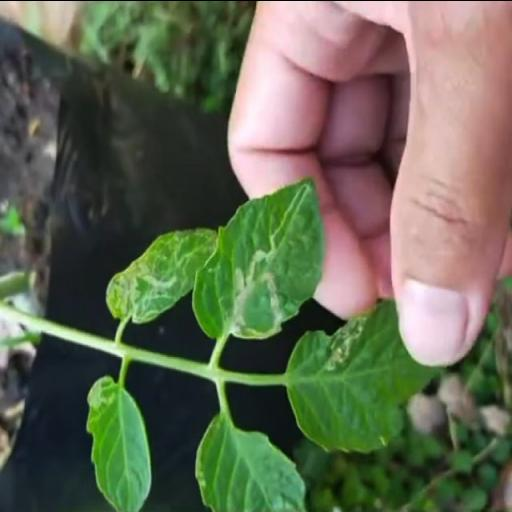disease_tomato: (284, 293, 436, 455), (188, 176, 325, 340), (101, 224, 217, 326), (84, 375, 150, 512)
